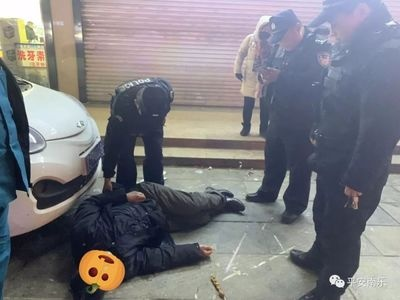falling: (59, 173, 249, 300)
